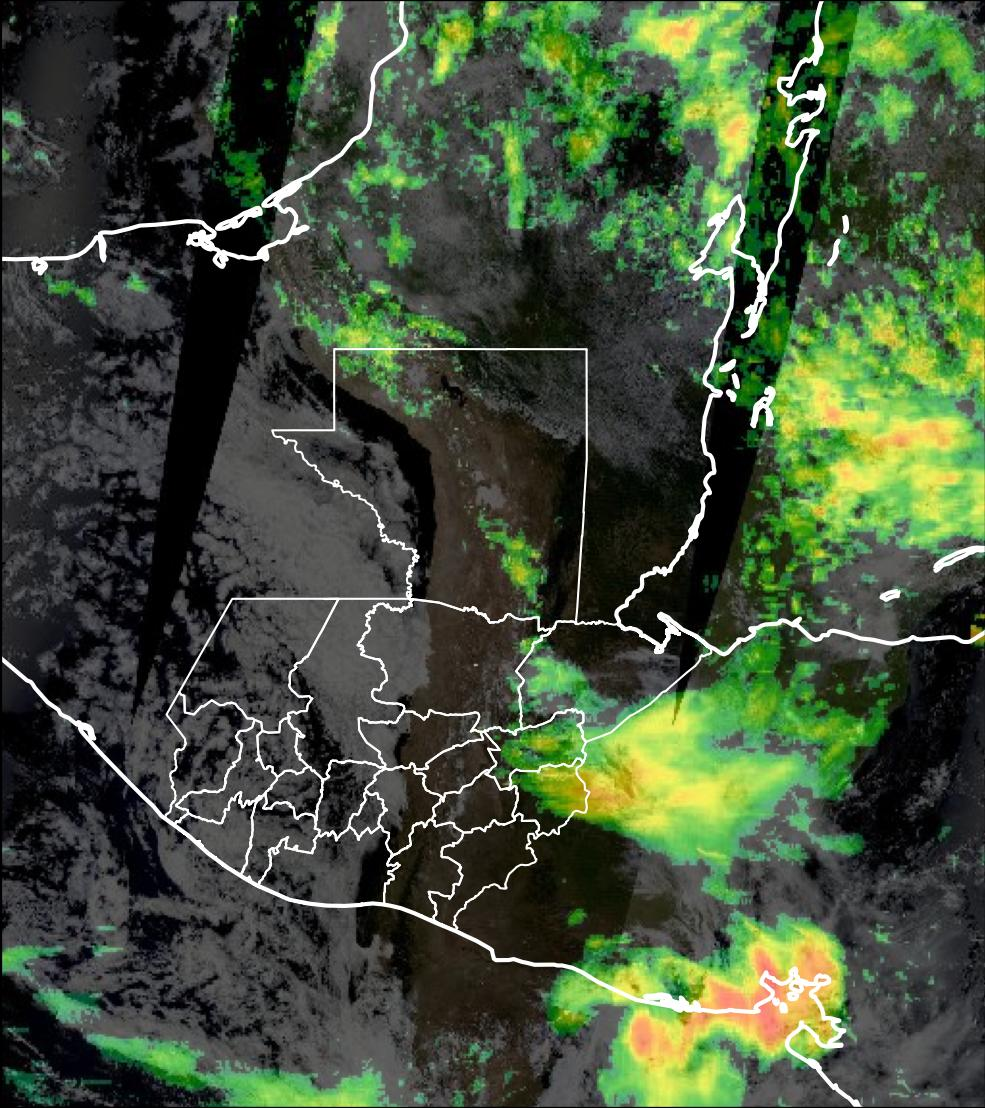precipitacion: (703, 951, 860, 1063)
